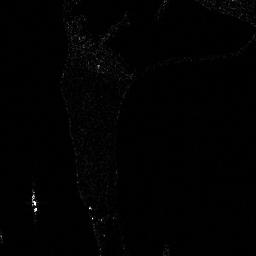ship: (29, 190, 38, 213)
